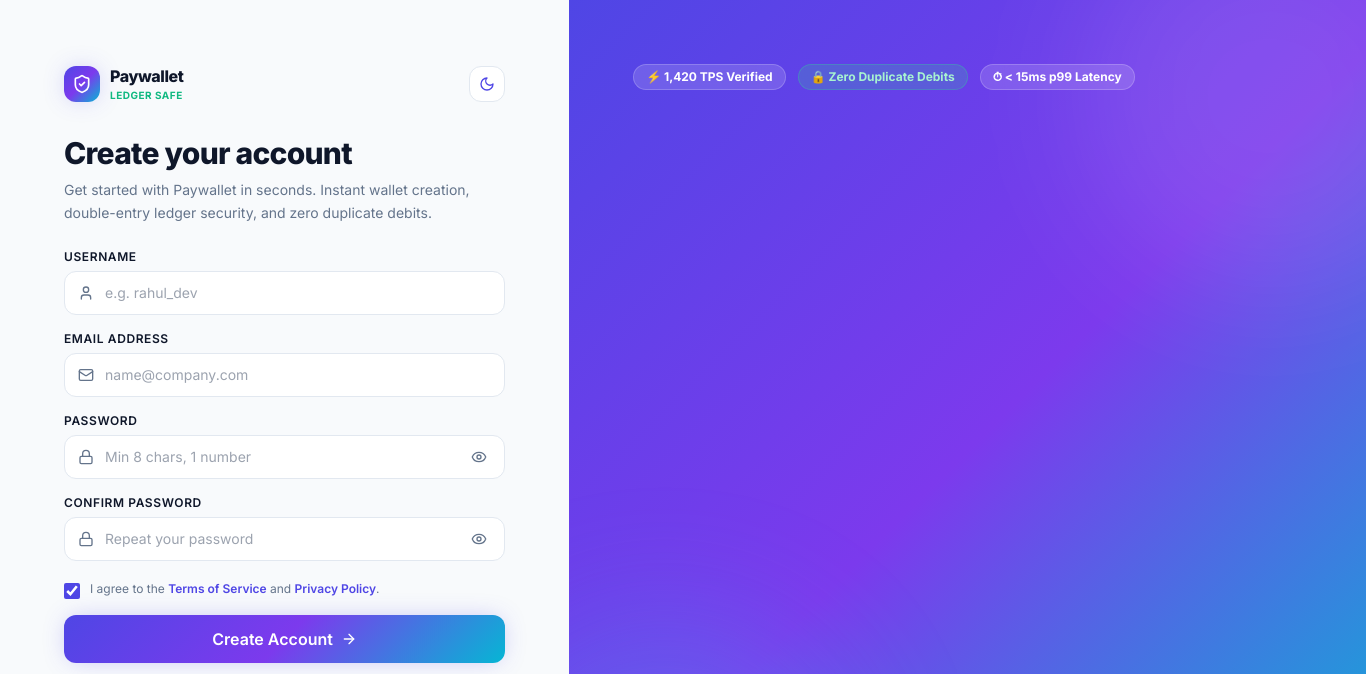
it: Auth Pages & Password Strength Meter › RegisterPage Component › shows password strength meter dynamically as user types
Type "Secret@123" into the password field with placeholder "Min 8 chars, 1 number" at (285, 456), box [64, 434, 505, 478]
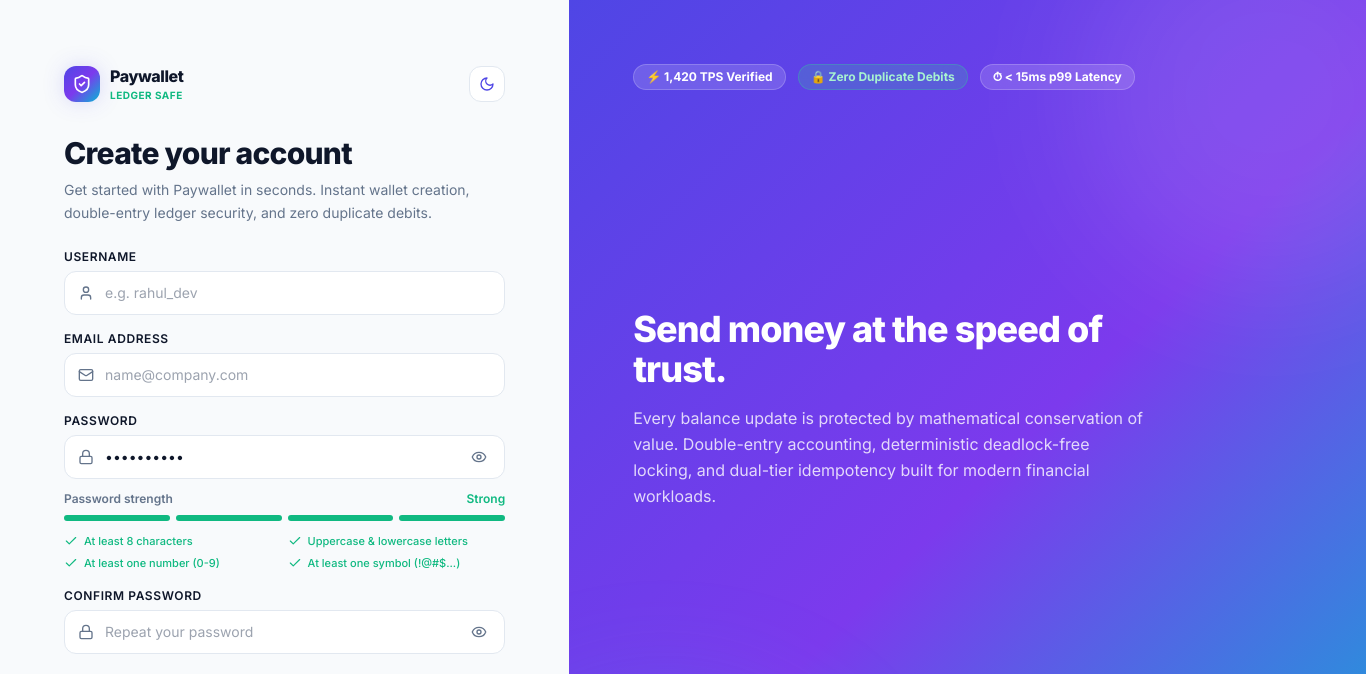
Expected: the text "Password strength" is shown, [64, 490, 173, 506]
Expected: the text "Strong" is shown, [466, 490, 505, 506]
